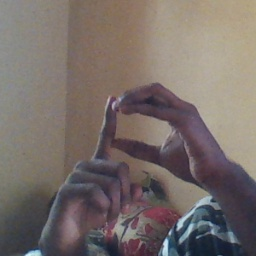P: (63, 81, 209, 221)
